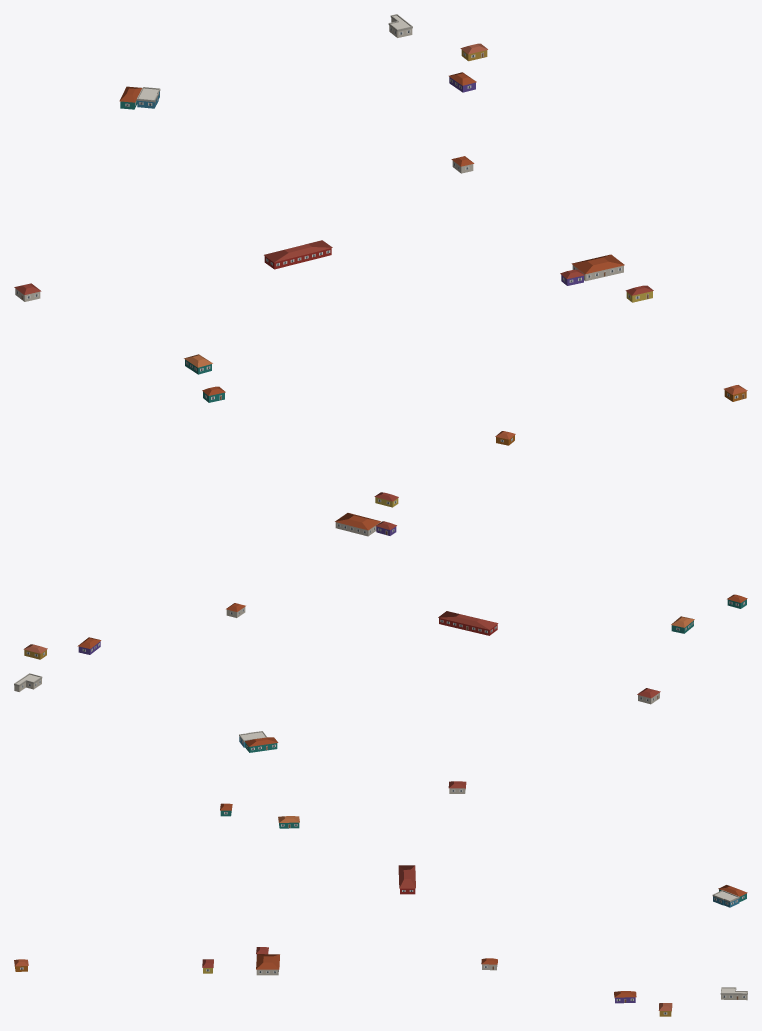
The model's file is msb_oranjestad_m12_m3.glb.
3 views of the same model, one above another, from view 1: azimuth 30°, elevation 25°; view 2: azimuth 150°, elevation 25°; view 3: azimuth 270°, elevation 25° (orthographic). The views are drawn at different scales.
Parts seen in each view (by area): view 1: msb_oranjestad_m12_m3_lod0; view 2: msb_oranjestad_m12_m3_lod0; view 3: msb_oranjestad_m12_m3_lod0.
Part boxes in pixels (<box>): msb_oranjestad_m12_m3_lod0: <box>14,14,747,402</box>; msb_oranjestad_m12_m3_lod0: <box>14,431,747,752</box>; msb_oranjestad_m12_m3_lod0: <box>14,781,747,1016</box>.
Size of what is drawn, in the model's own units: 293 by 12.87 by 389.
3 materials, 1 textured.
